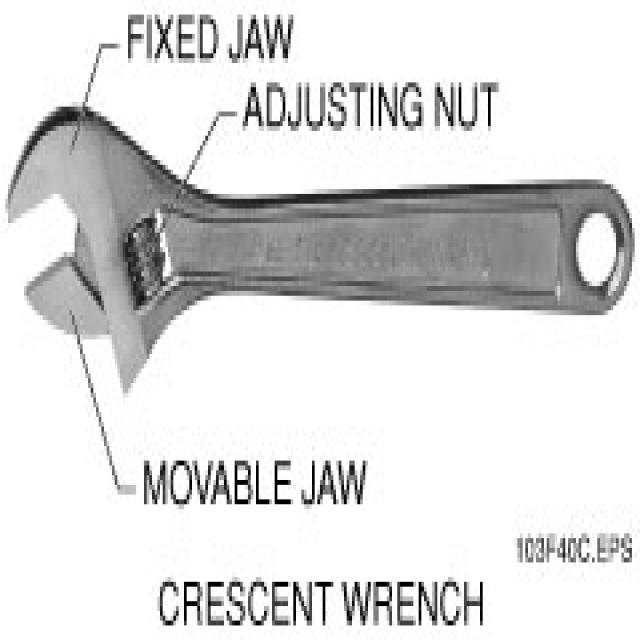wrench: (0, 97, 640, 405)
